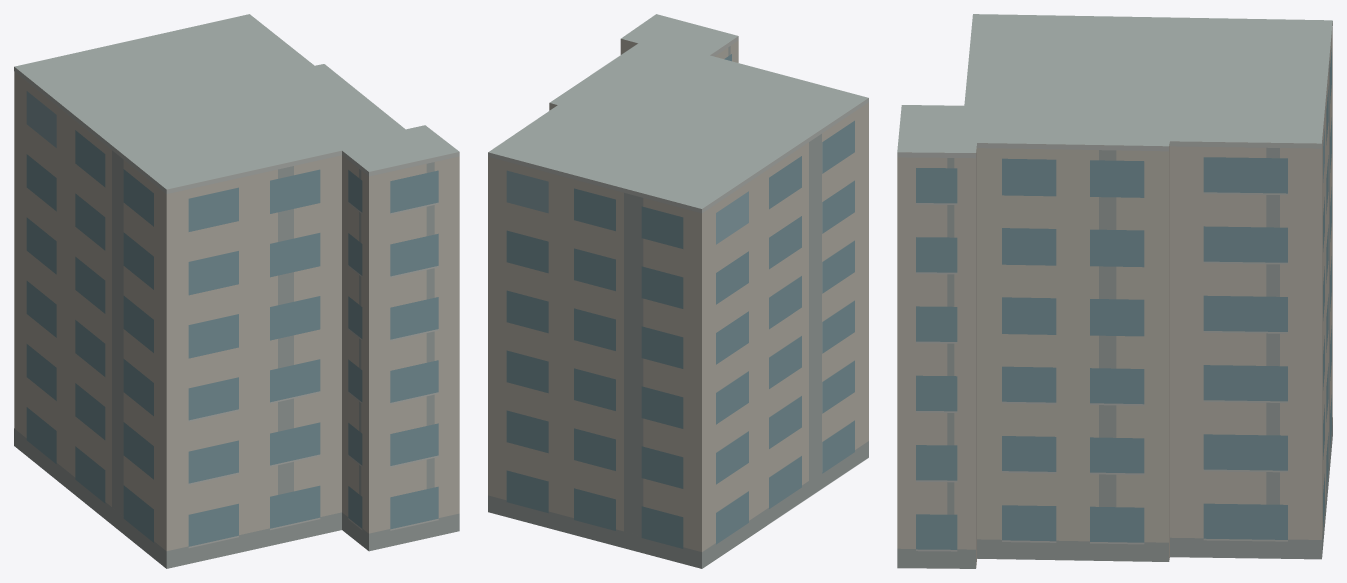
The model's file is survey-upis-32565649.glb.
3 renders of one model, left to right at view 1: azimuth 30°, elevation 25°; view 2: azimuth 150°, elevation 25°; view 3: azimuth 270°, elevation 25°, orthographic. The views are drawn at different scales.
Parts seen in each view (by area): view 1: survey-upis-32565649.tmp; view 2: survey-upis-32565649.tmp; view 3: survey-upis-32565649.tmp.
Boxes of the visible parts, <box> form: survey-upis-32565649.tmp: <box>14,14,459,568</box>; survey-upis-32565649.tmp: <box>488,14,868,568</box>; survey-upis-32565649.tmp: <box>897,14,1332,568</box>.
Bounding box in the file's own units: 14.36 × 20 × 19.
